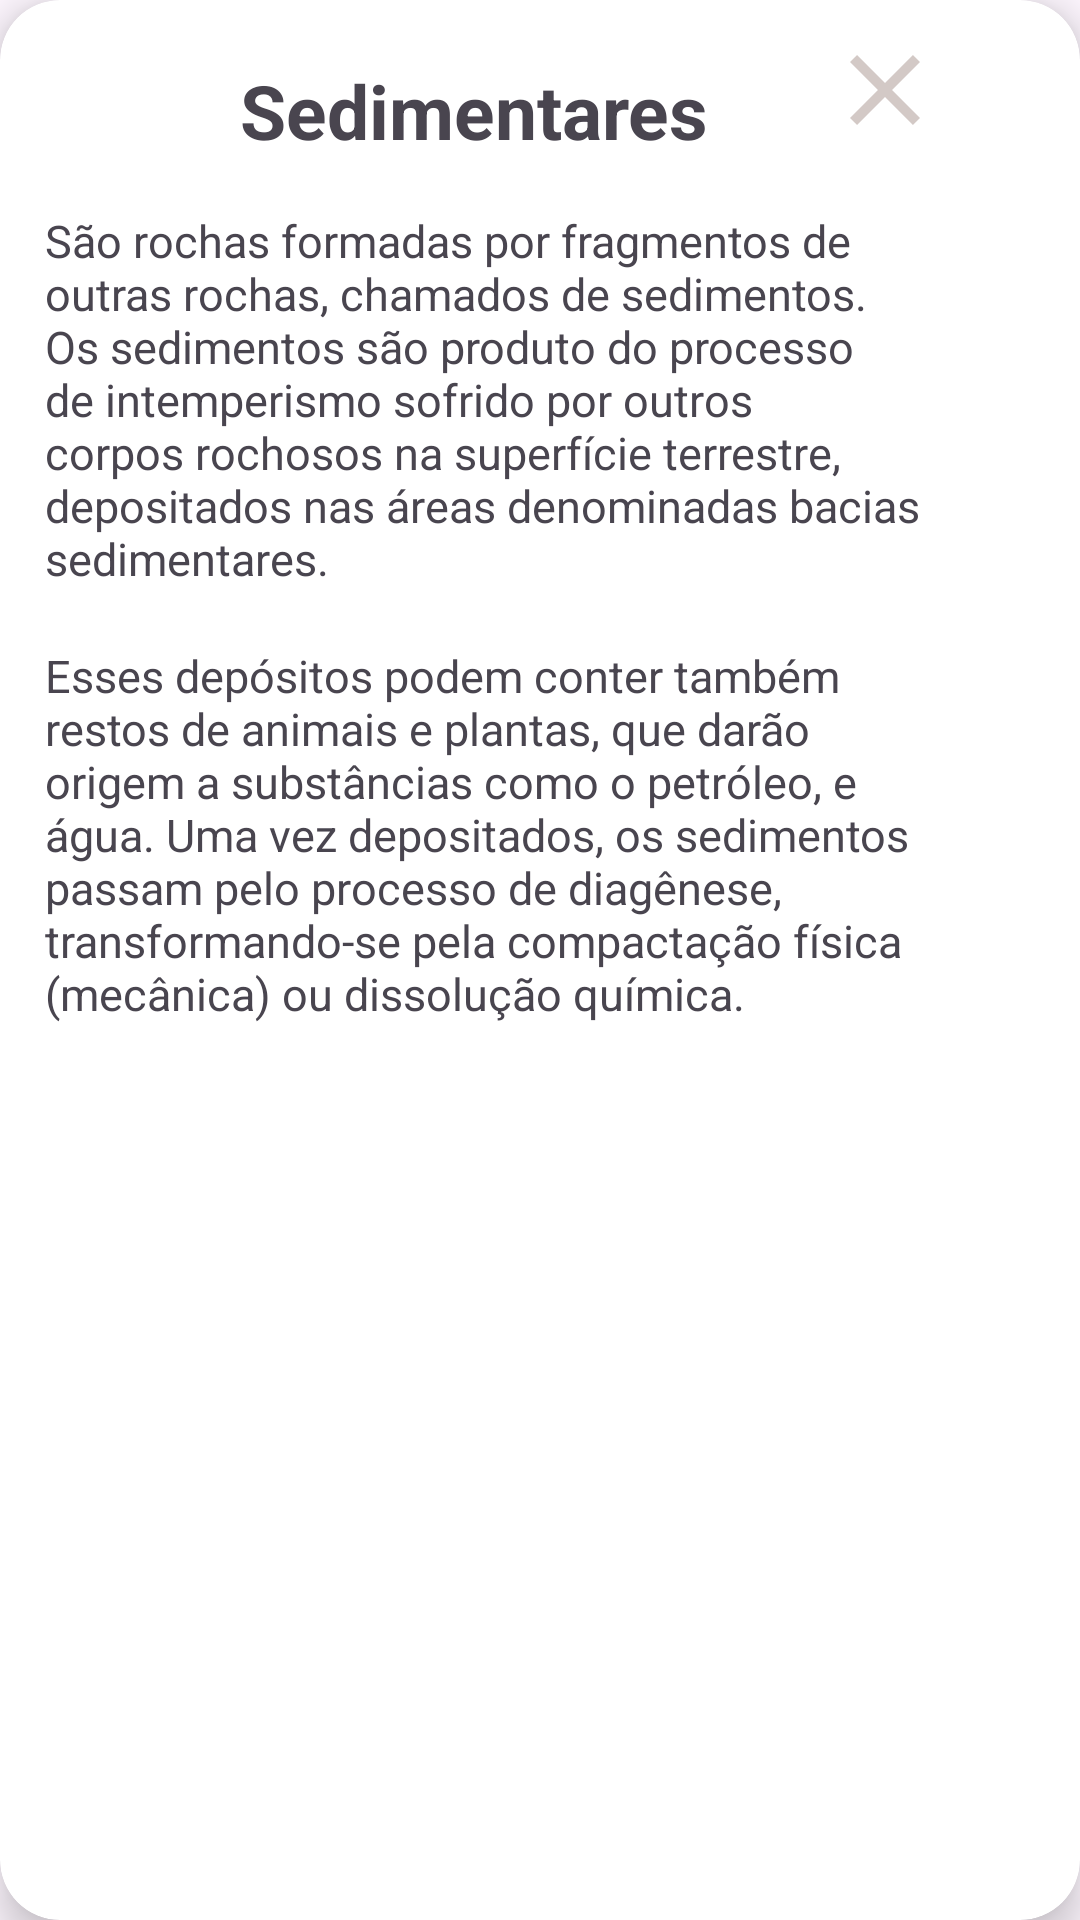

Icon bounding boxes for this 1080px×1920px phone screenshot, format (x1, y1, x2, y2):
fechar: (850, 55, 920, 125)
